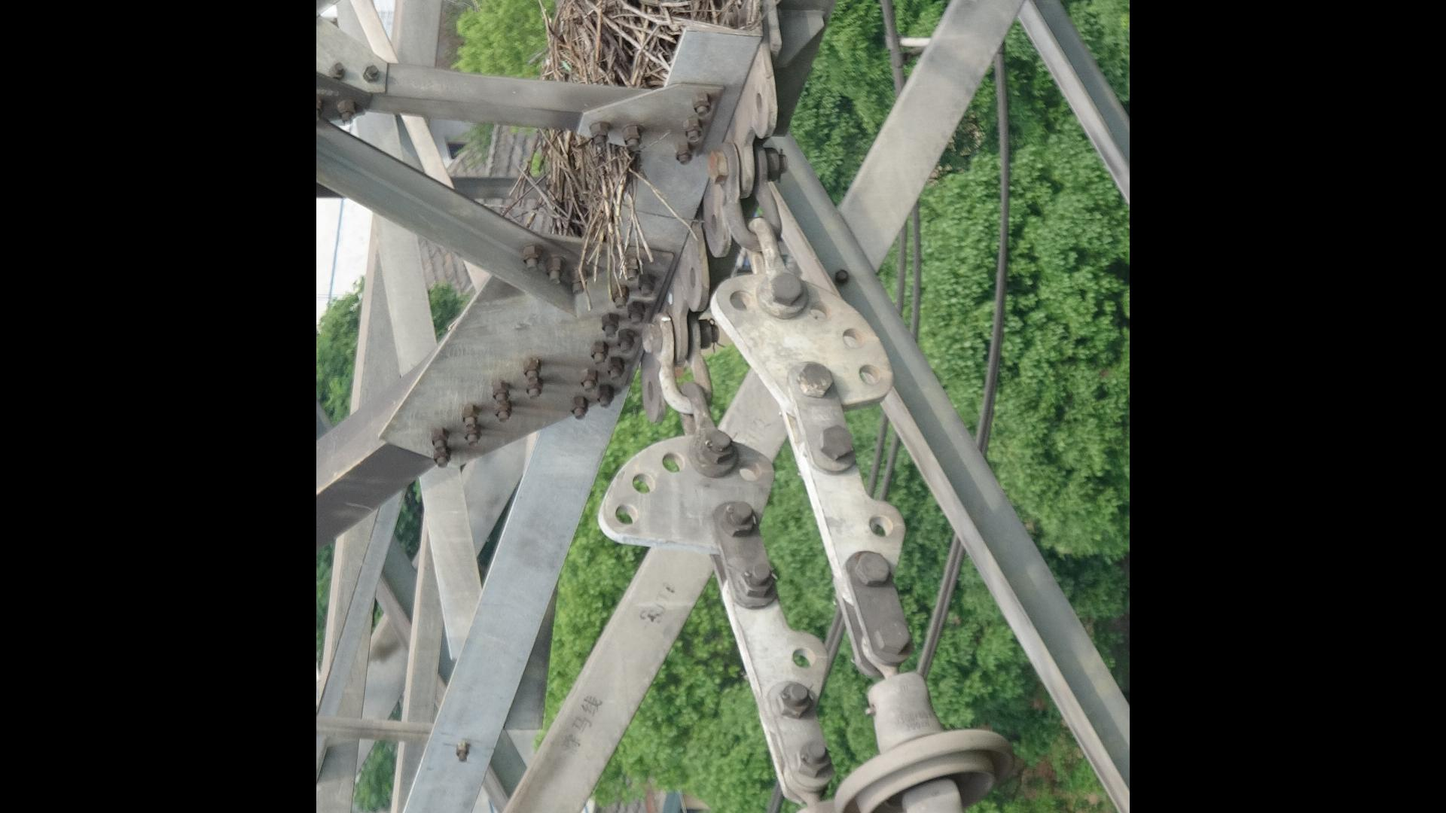nest: (525, 1, 734, 237)
